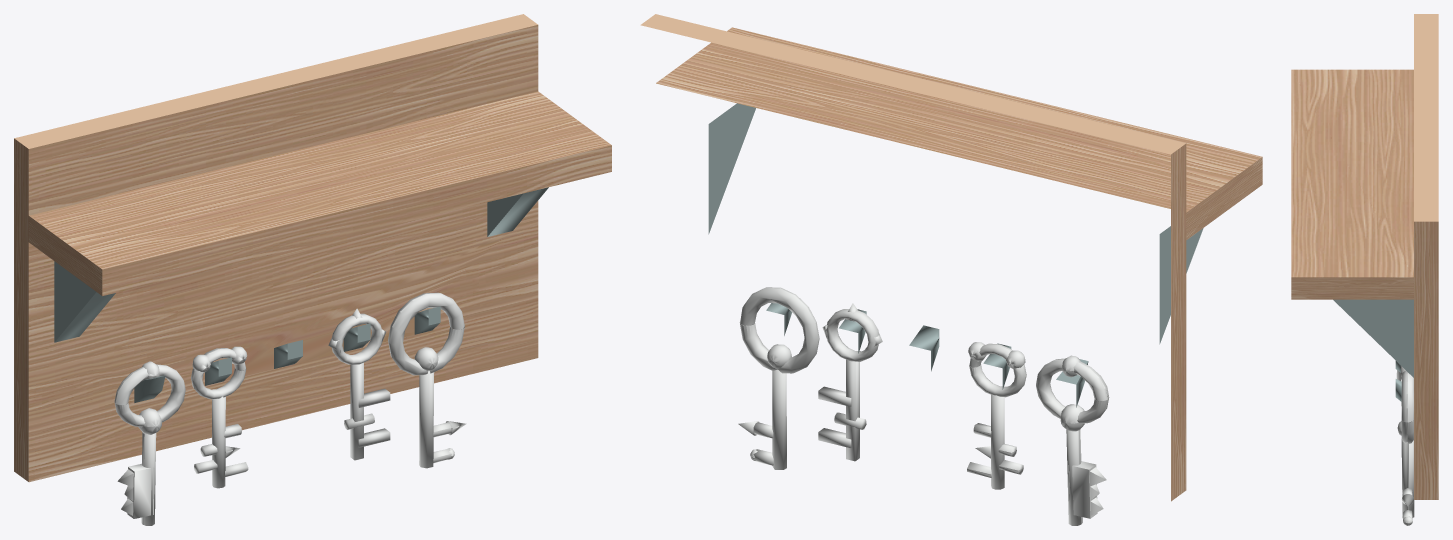
File: chiavi-texture.glb
3 renders of one model, left to right at view 1: azimuth 30°, elevation 25°; view 2: azimuth 150°, elevation 25°; view 3: azimuth 270°, elevation 25°, orthographic. The views are drawn at different scales.
Parts seen in each view (by area): view 1: chiavi, AnyConv.com__Key 04, AnyConv.com__Key 03, AnyConv.com__Key 09, AnyConv.com__Key 02; view 2: chiavi, AnyConv.com__Key 04, AnyConv.com__Key 03, AnyConv.com__Key 09, AnyConv.com__Key 02; view 3: chiavi, AnyConv.com__Key 04.
Part boxes in pixels (<box>): chiavi: <box>14,14,611,482</box>; AnyConv.com__Key 04: <box>388,292,466,468</box>; AnyConv.com__Key 03: <box>114,361,185,525</box>; AnyConv.com__Key 09: <box>191,346,248,488</box>; AnyConv.com__Key 02: <box>328,308,390,460</box>; chiavi: <box>640,14,1262,501</box>; AnyConv.com__Key 04: <box>738,287,819,469</box>; AnyConv.com__Key 03: <box>1036,355,1109,525</box>; AnyConv.com__Key 09: <box>967,342,1026,489</box>; AnyConv.com__Key 02: <box>818,303,882,461</box>; chiavi: <box>1291,14,1438,499</box>; AnyConv.com__Key 04: <box>1397,370,1414,525</box>.
Bounding box in the file's own units: 0.448 × 0.3442 × 0.1344.
Materials: 4 (1 with a texture image).
